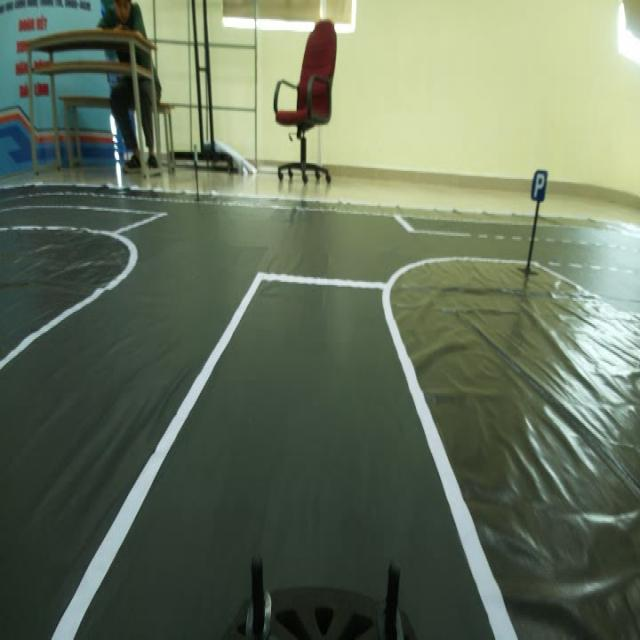parking: (527, 167, 553, 204)
